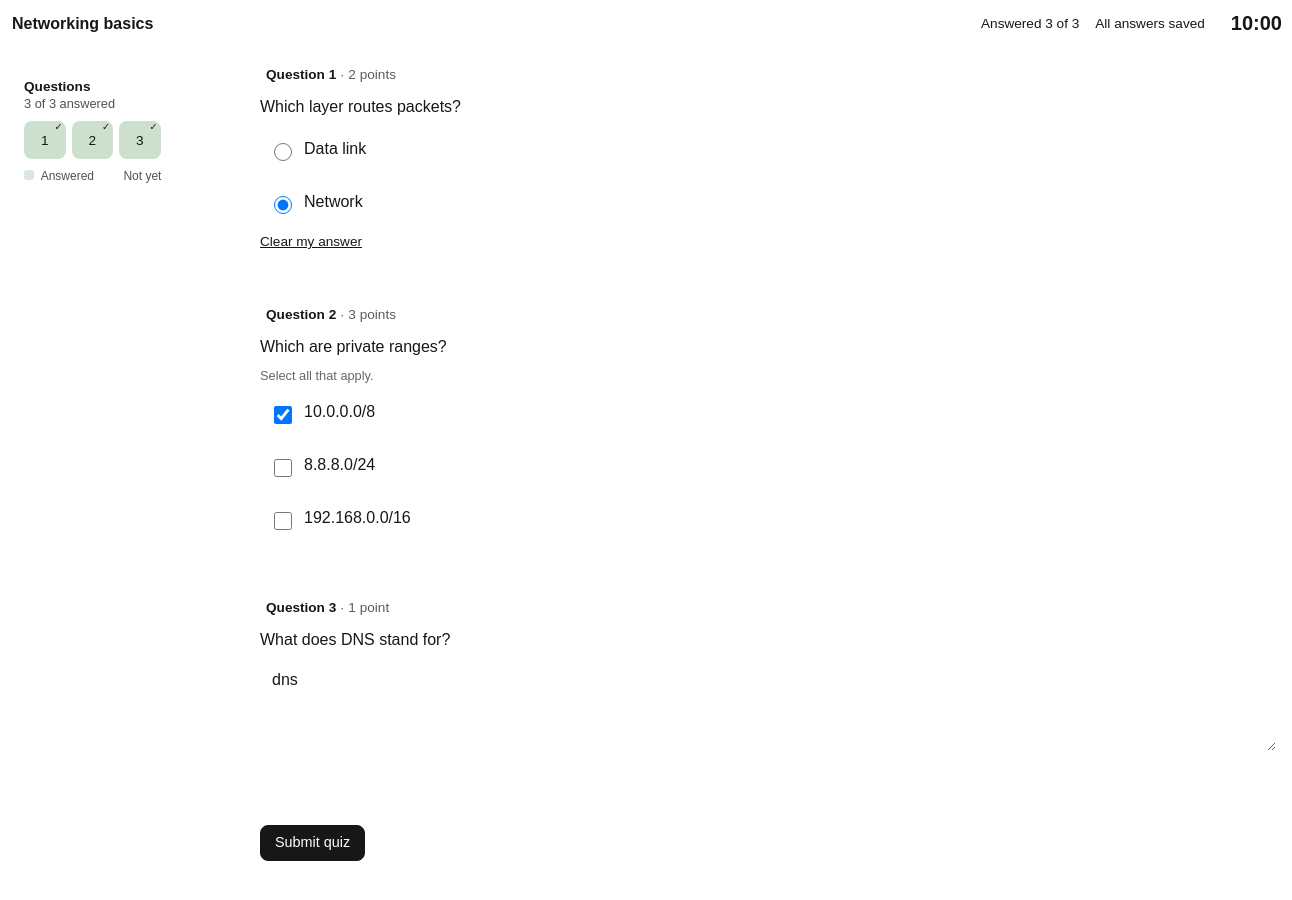
AttemptRunner › uses different wording when everything is answered
Click the button "Submit quiz".
click(313, 843)  # box [260,825,365,860]
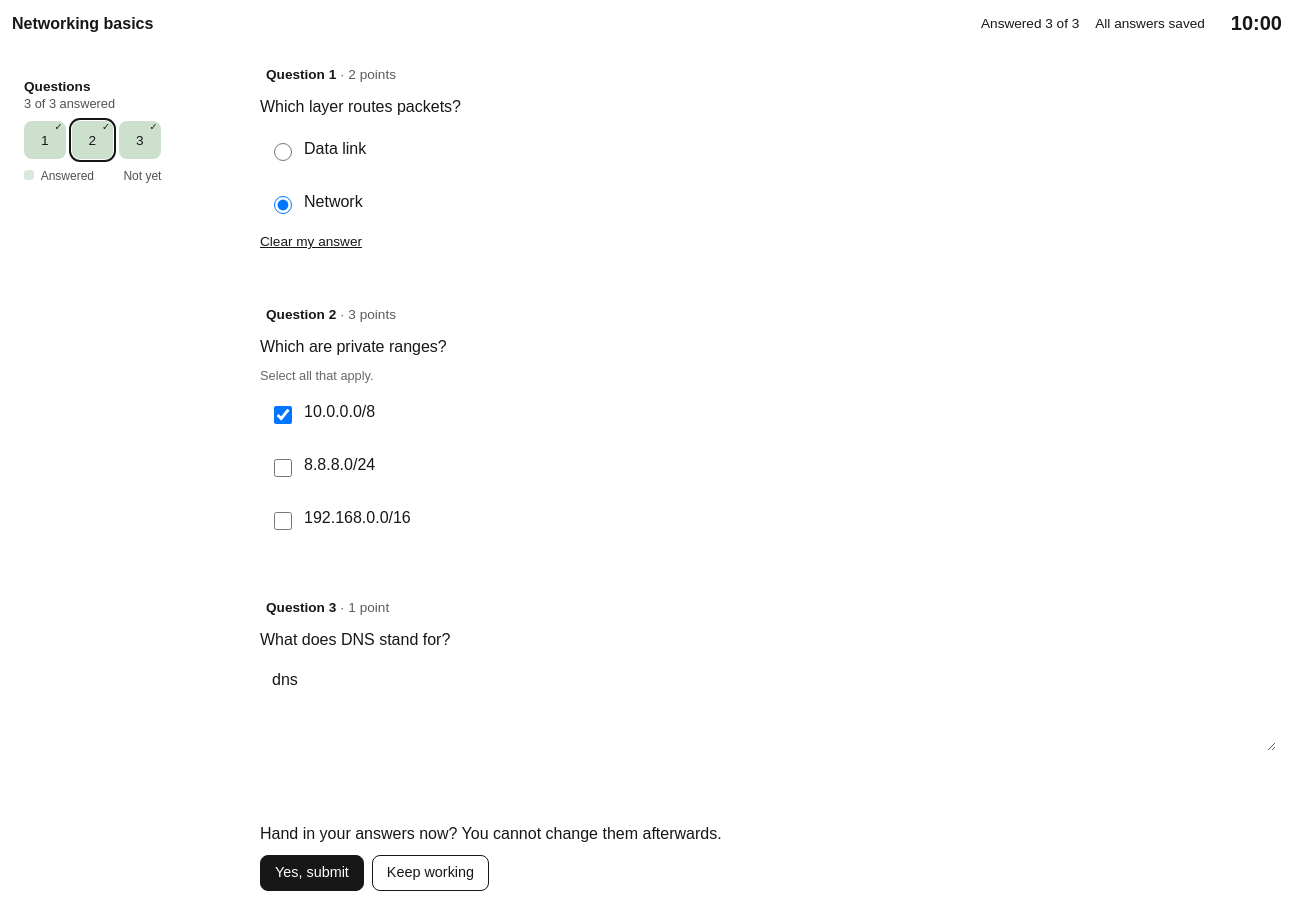
Now the text "Hand in your answers now? You cannot change them afterwards." is shown, box [260,825,722,842]
